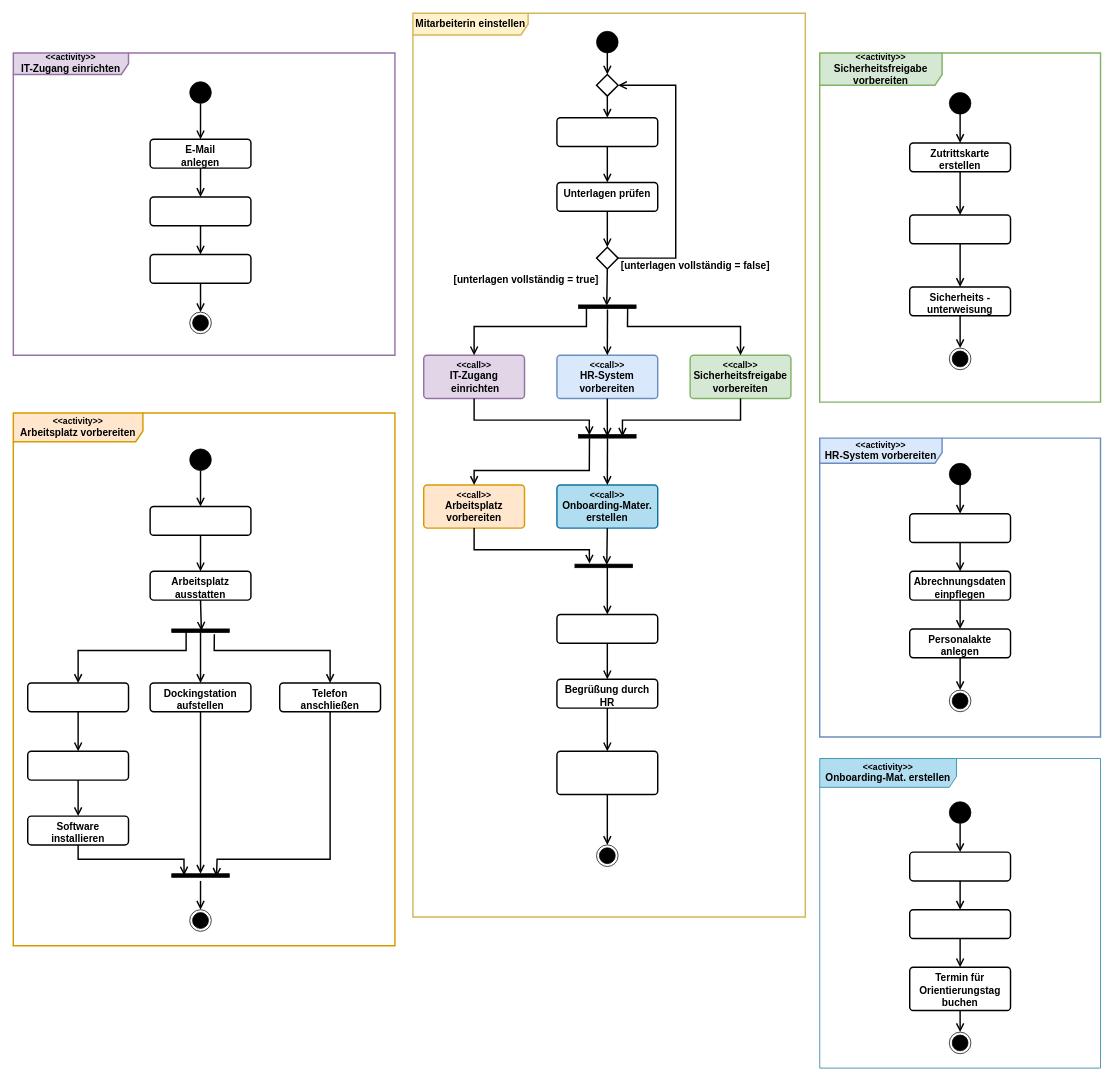
Image size: 1113x1081. Some labels were removed from this diagram. Here are the shapes that lost their labels. From the top down, the centre of each, then its label:
At point (607, 132): "Personaldaten erfassen".
At point (200, 211): "Zugriffsrechte festlegen".
At point (960, 229): "Zugangsbereiche definieren".
At point (200, 268): "Gruppen zuweisen".
At point (200, 520): "Arbeitsplatz zuweisen".
At point (960, 528): "Im Zeiterfassungs - system eintragen".
At point (607, 628): "Mitarbeiterin willkommen heißen".
At point (78, 697): "Laptop aufstellen".
At point (78, 765): "Monitore anschließen".
At point (607, 772): "Übergabe von Zugangs- und Arbeitsplatzinfos.".
At point (960, 866): "Willkommenspaket zusammenstellen".
At point (960, 924): "Schulungsmaterial bereitstellen".
